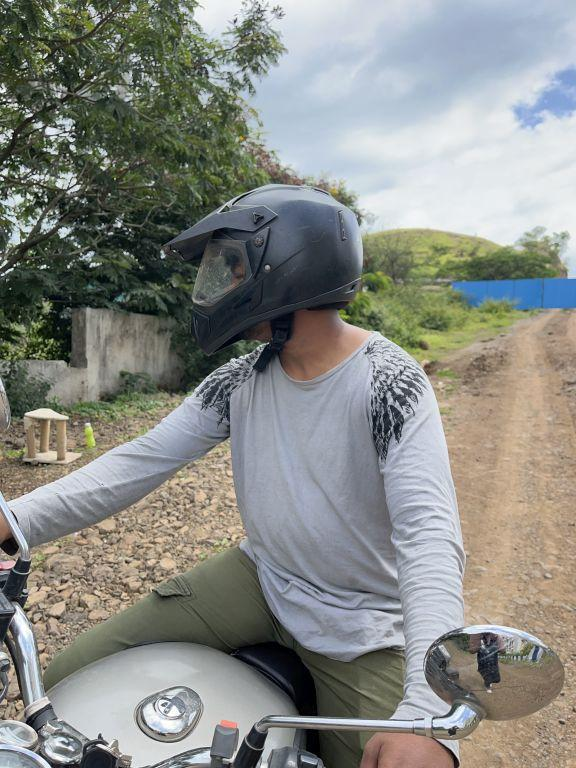helmet: (154, 170, 380, 374)
